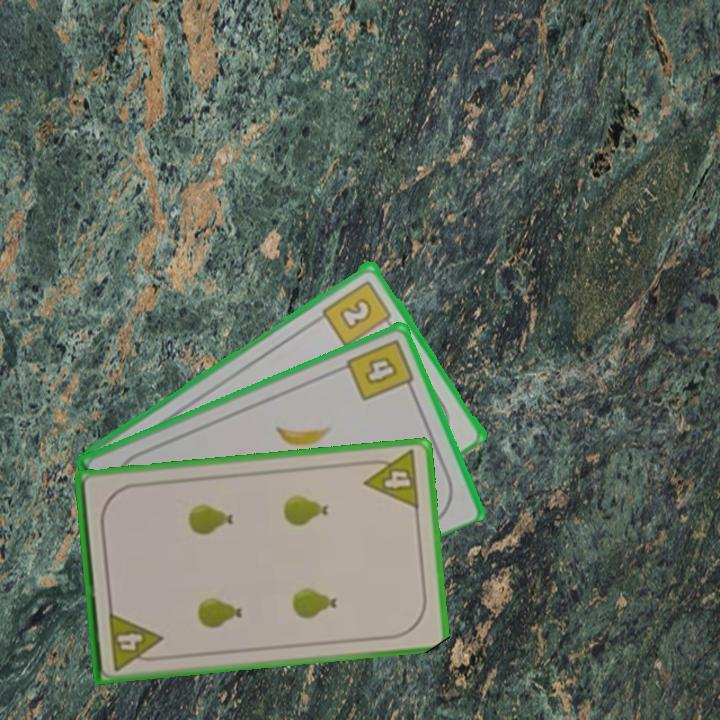2b: (319, 276, 395, 349)
4b: (343, 335, 418, 404)
4p: (359, 447, 423, 512), (105, 608, 166, 673)
